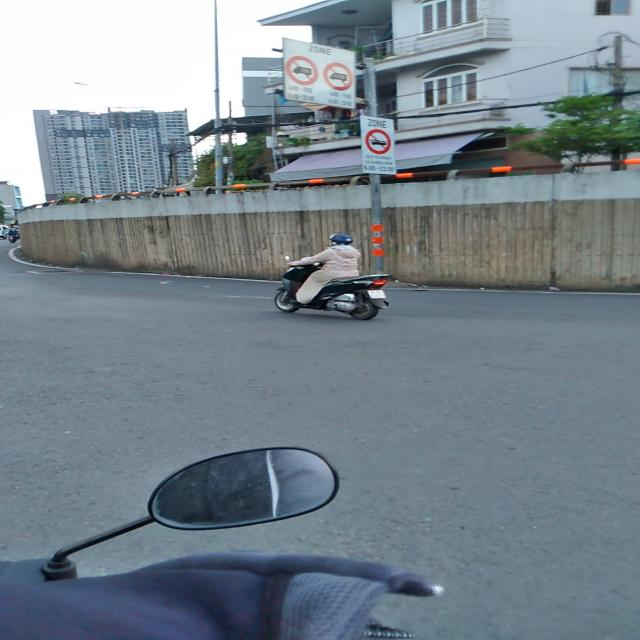Cam con lai: (285, 55, 318, 86), (322, 62, 353, 91), (365, 128, 391, 154)
